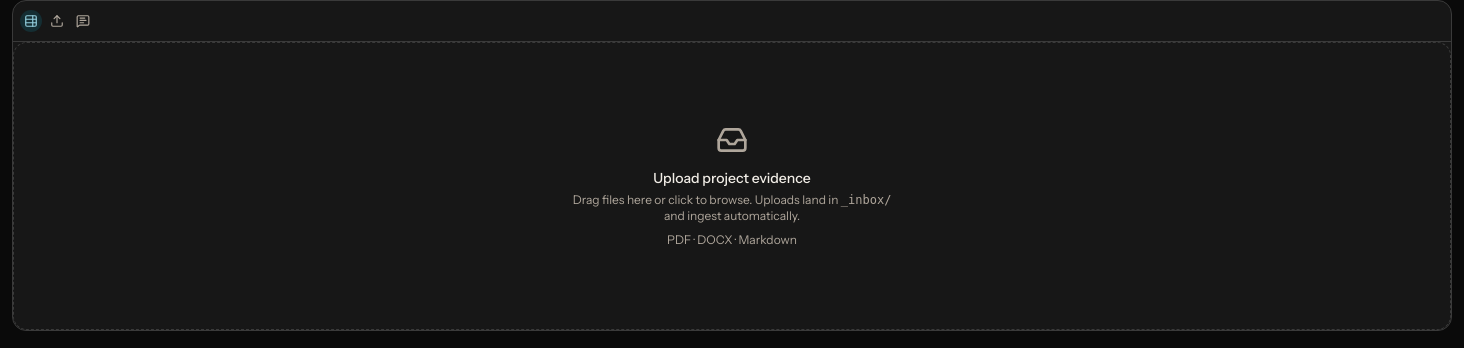
Test case: DocumentRepositoryPanel navigation › uses one button to switch document views
Click the button named "Switch to tree view" at [31, 21], box [19,9,43,33]
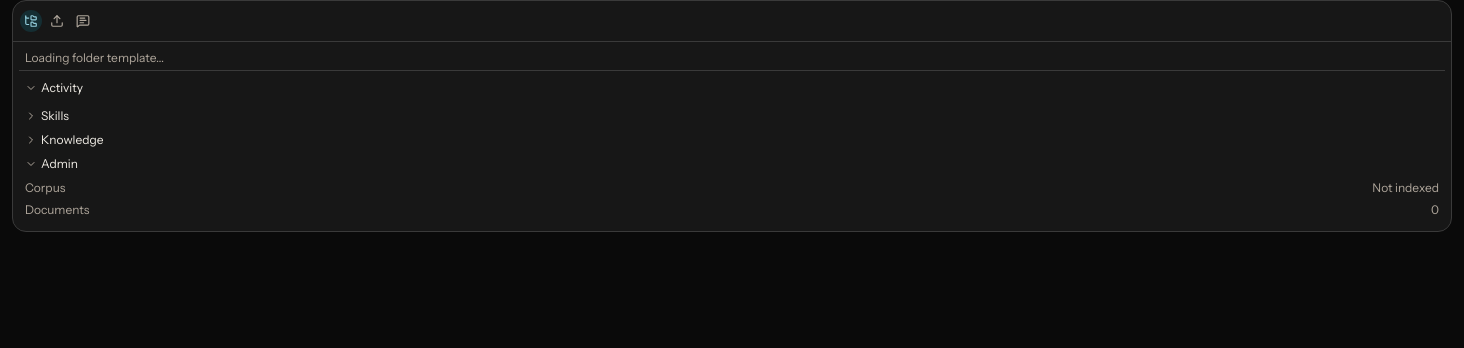
Check: the button named "Switch to document list" is shown
Click the button named "Switch to document list" at [31, 21], box [19,9,43,33]
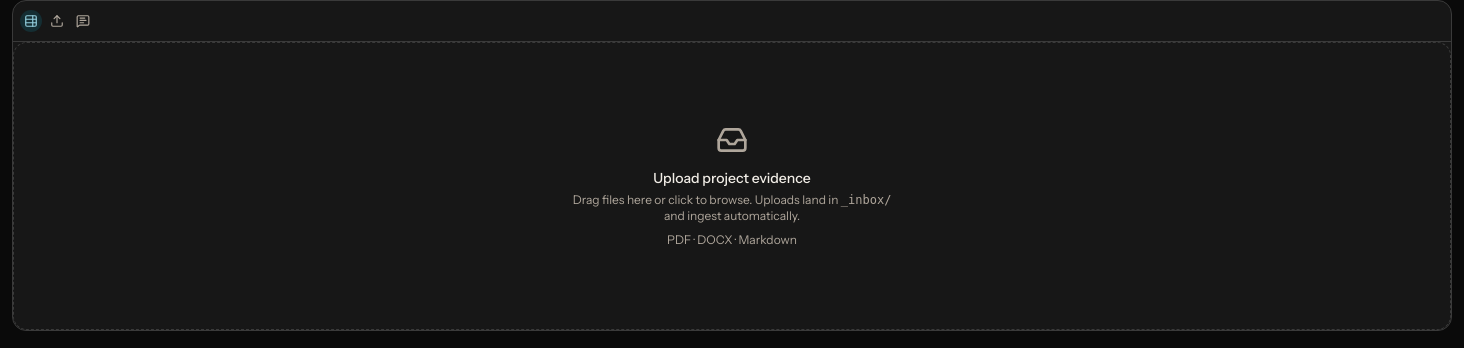
Check: the button named "Switch to tree view" is shown, box [19,9,43,33]
